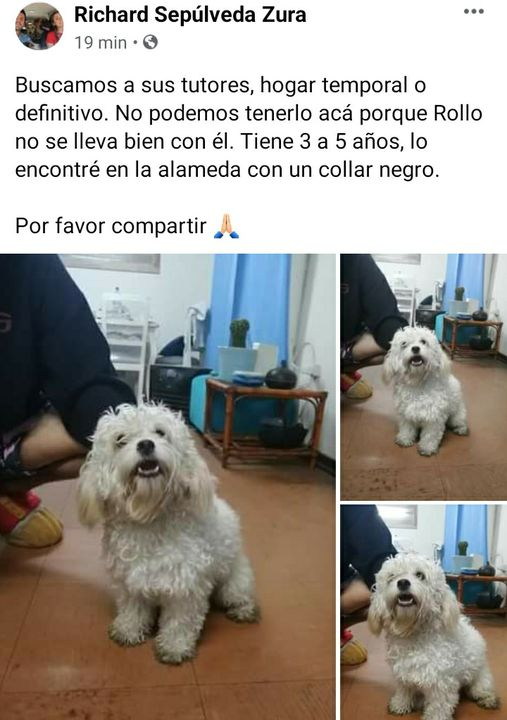dog: (75, 397, 270, 676), (364, 548, 502, 719), (376, 322, 474, 465)
